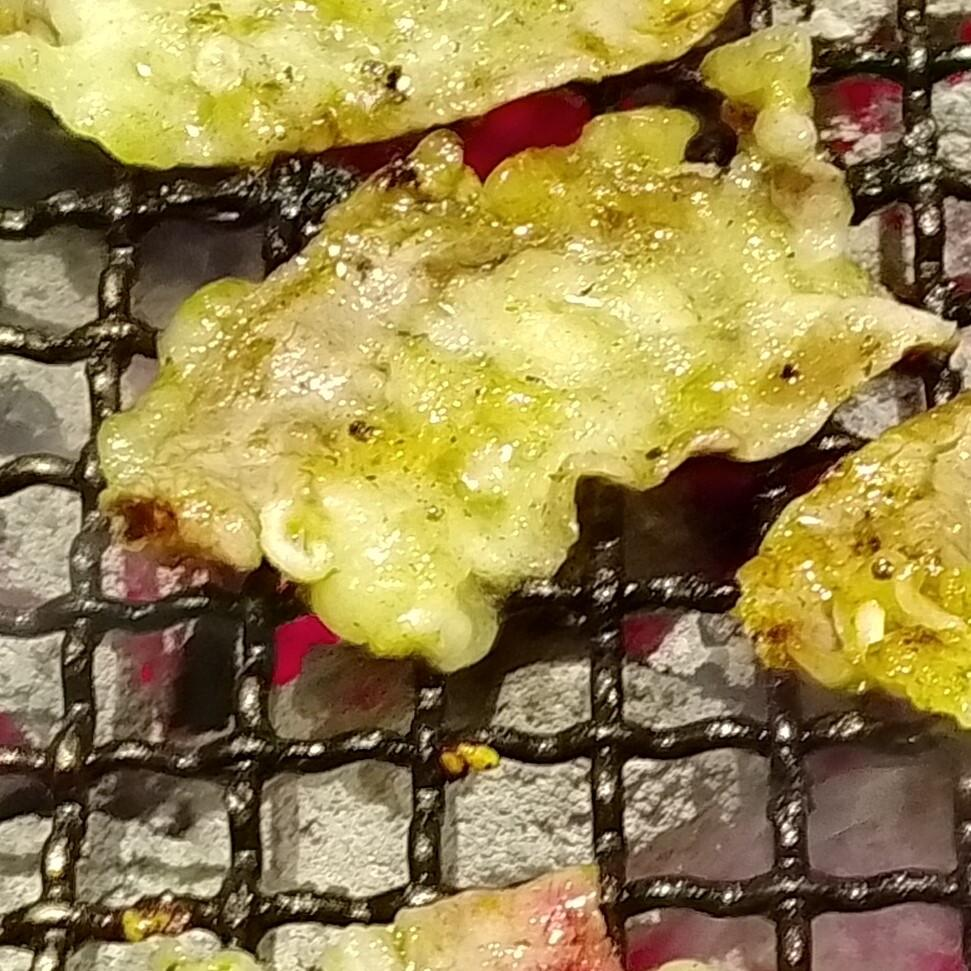Well-Cooked: (96, 110, 952, 676), (0, 0, 732, 171), (734, 385, 970, 746)
